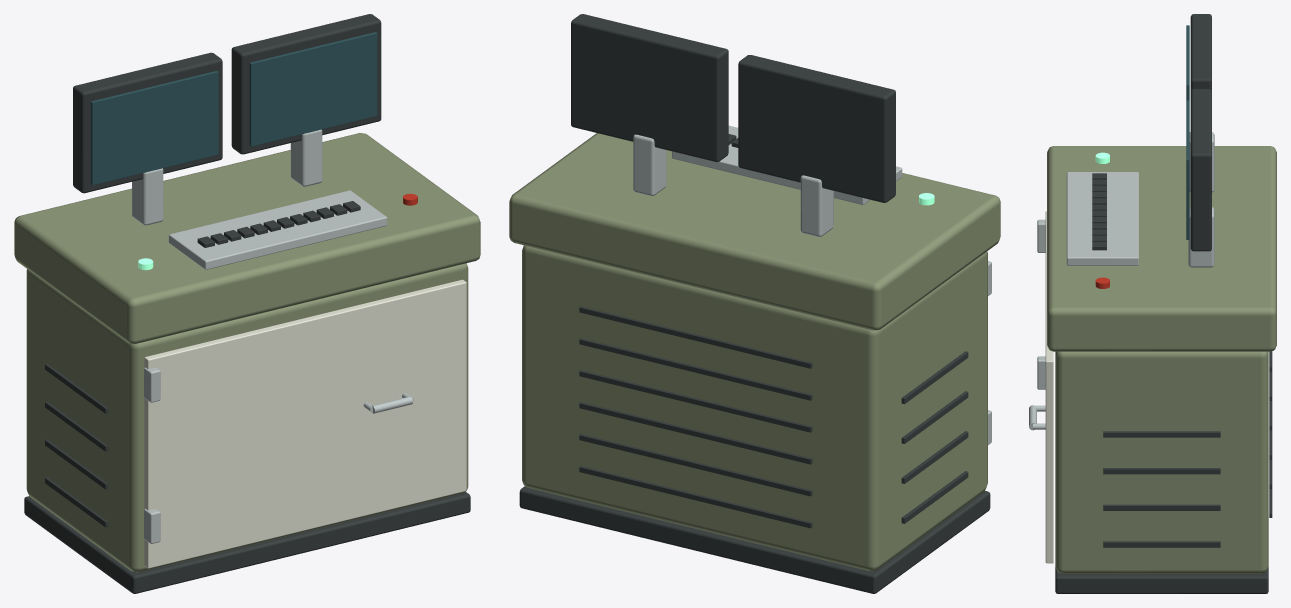
File: mountain-border-checkpoint-mountain-border-checkpoint--228d1a09__30331.glb
3 renders of one model, left to right at view 1: azimuth 30°, elevation 25°; view 2: azimuth 150°, elevation 25°; view 3: azimuth 270°, elevation 25°, orthographic. The views are drawn at different scales.
Visible parts, largest first — view 1: mountain-border-checkpoint-traffic-control-console; view 2: mountain-border-checkpoint-traffic-control-console; view 3: mountain-border-checkpoint-traffic-control-console.
Part boxes in pixels (x1=…): mountain-border-checkpoint-traffic-control-console: x1=14, y1=14, x2=480, y2=593; mountain-border-checkpoint-traffic-control-console: x1=509, y1=14, x2=1000, y2=593; mountain-border-checkpoint-traffic-control-console: x1=1029, y1=14, x2=1276, y2=593.
Bounding box in the file's own units: 1.2 × 1.45 × 0.755.
